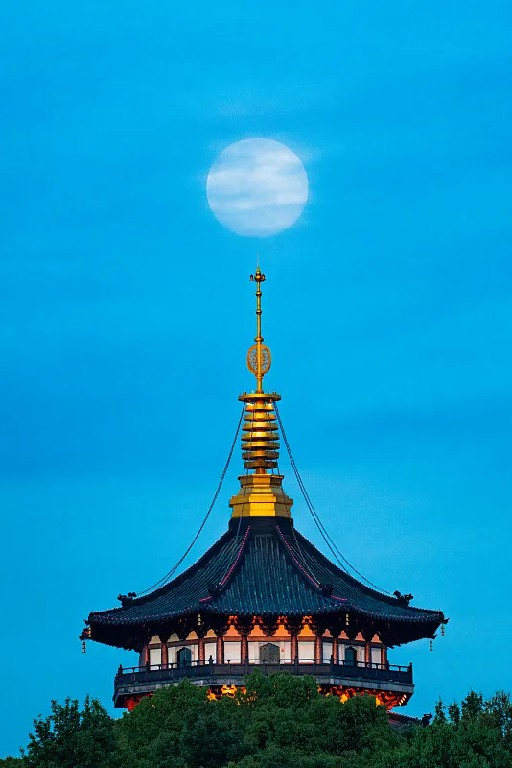Leifeng: (80, 257, 452, 728)
